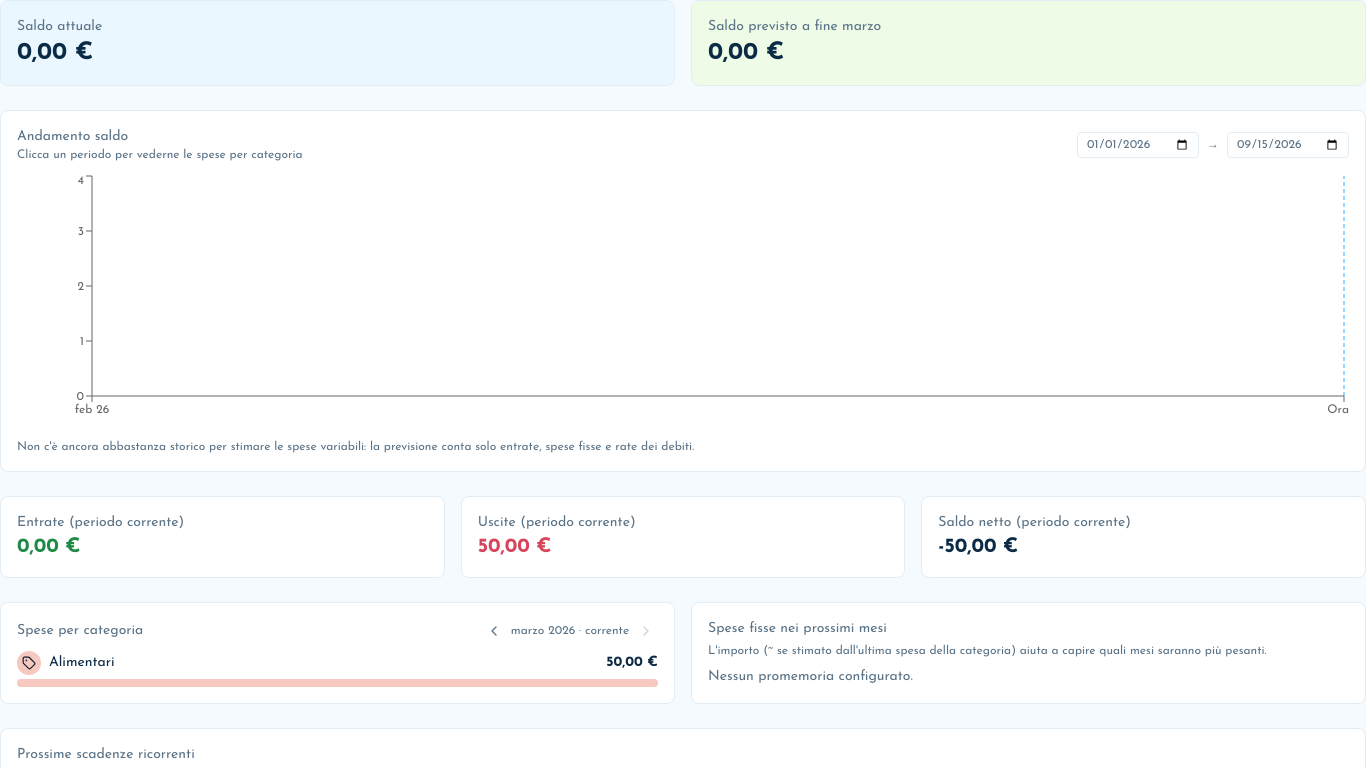
Test: sfoglio dei periodi nella card "Spese per categoria" › parte dal periodo corrente e lascia tornare indietro
Expected: the text "marzo 2026 · corrente" is shown, 510,623 -> 630,639
Step 1. Click the button named "Mese precedente" → point(494, 631), box 482,619 -> 506,643
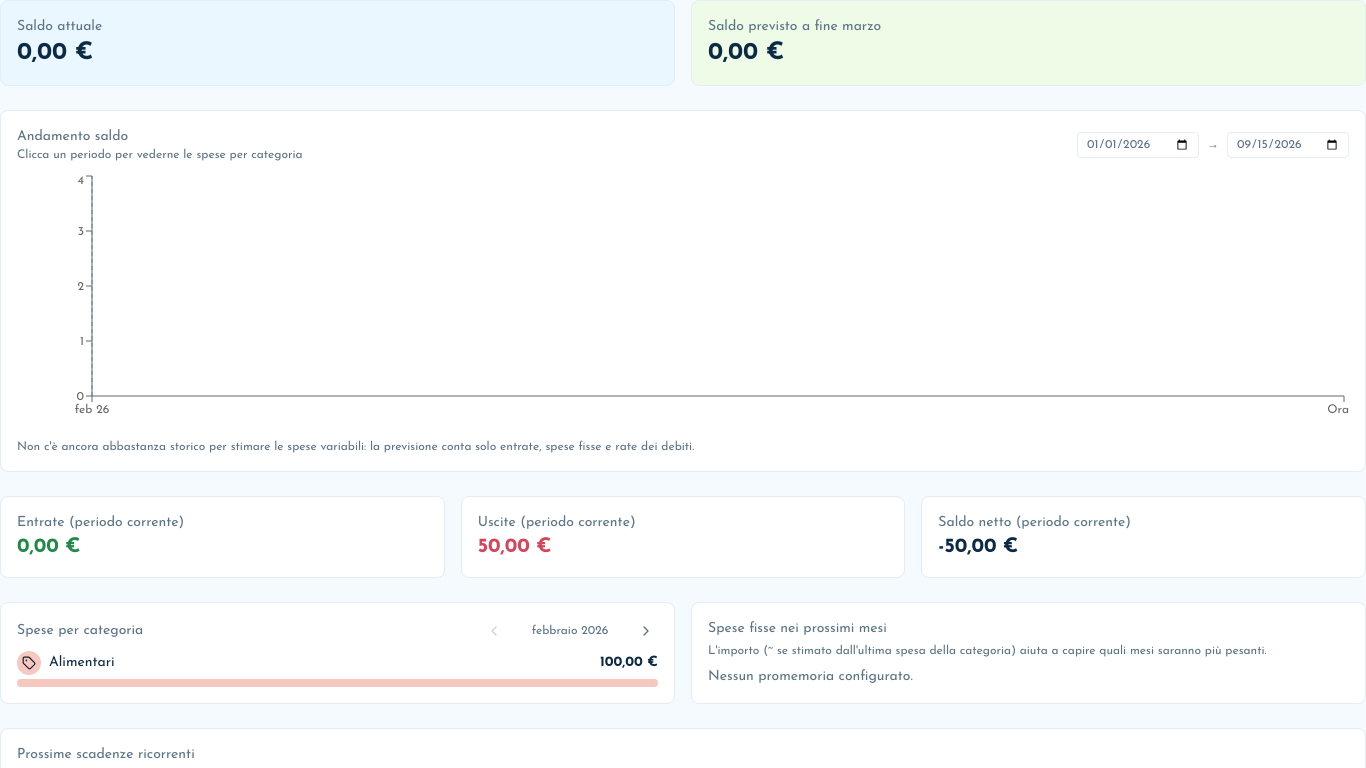
Expected: the text "· corrente" is gone
